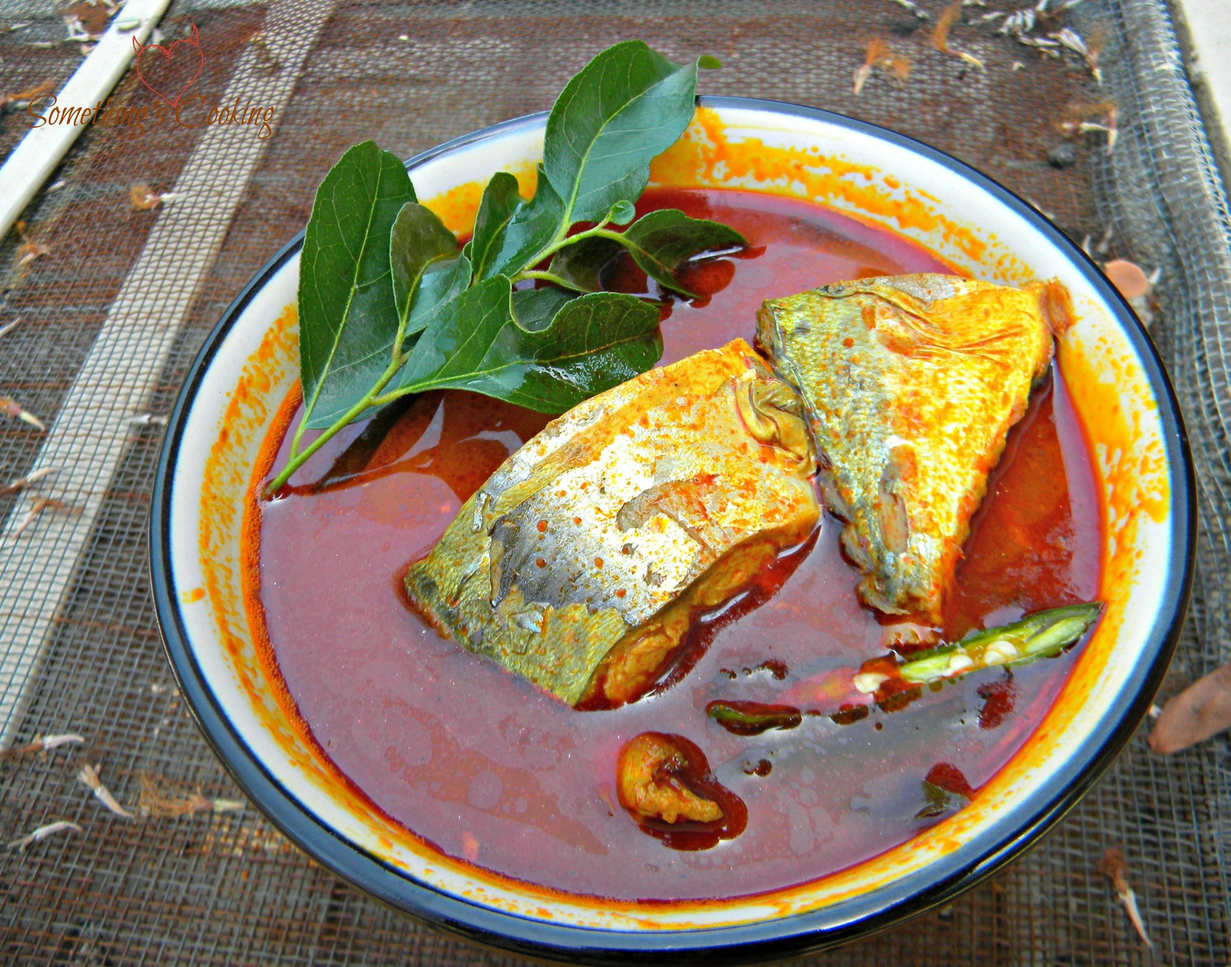FishCurry: (240, 179, 1106, 891)
